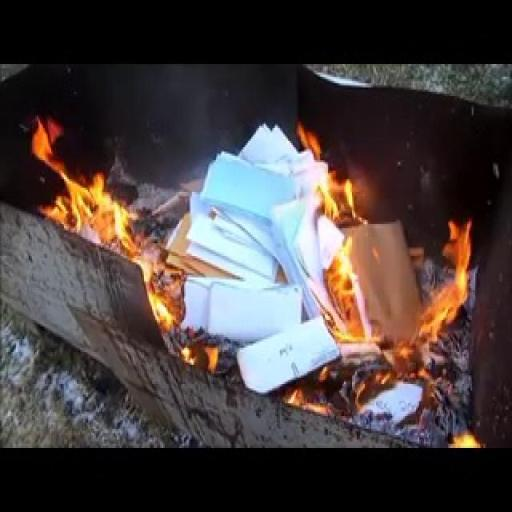smoke: (298, 120, 442, 375), (37, 106, 149, 265)
